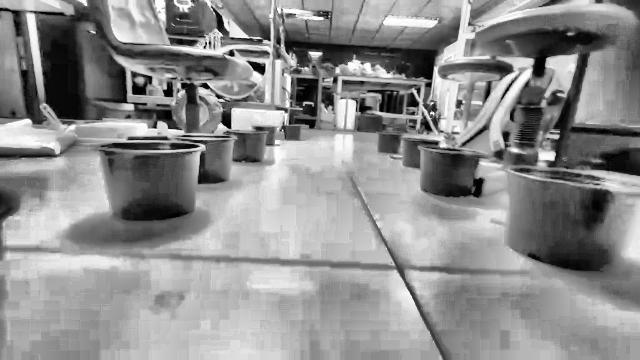pot: (506, 166, 639, 271), (96, 140, 204, 221), (419, 146, 482, 197), (173, 133, 235, 184), (226, 129, 267, 162), (402, 137, 439, 169), (378, 131, 402, 154), (252, 126, 277, 145), (284, 124, 302, 139)
